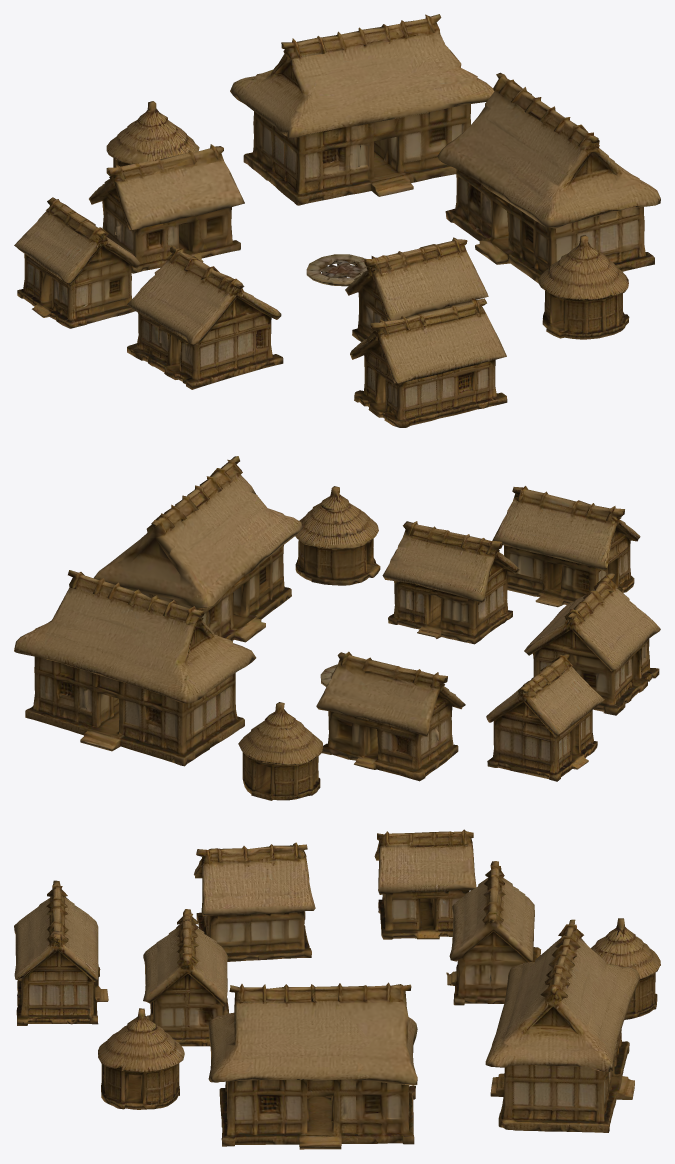
Rendered from Ancient Village (East Asian).fbx.
The picture shows the model from 3 angles, top to bottom: view 1: azimuth 30°, elevation 25°; view 2: azimuth 150°, elevation 25°; view 3: azimuth 270°, elevation 25°; orthographic projection. The views are drawn at different scales.
Parts seen in each view (by area): view 1: tripo_node_02efd9c8; view 2: tripo_node_02efd9c8; view 3: tripo_node_02efd9c8.
Part boxes in pixels (box(x1,y1,x2,y2)): tripo_node_02efd9c8: box(14, 14, 660, 427); tripo_node_02efd9c8: box(14, 456, 660, 800); tripo_node_02efd9c8: box(14, 829, 660, 1149).
Size of the model in its own units: 0.9114 by 0.2312 by 1.
